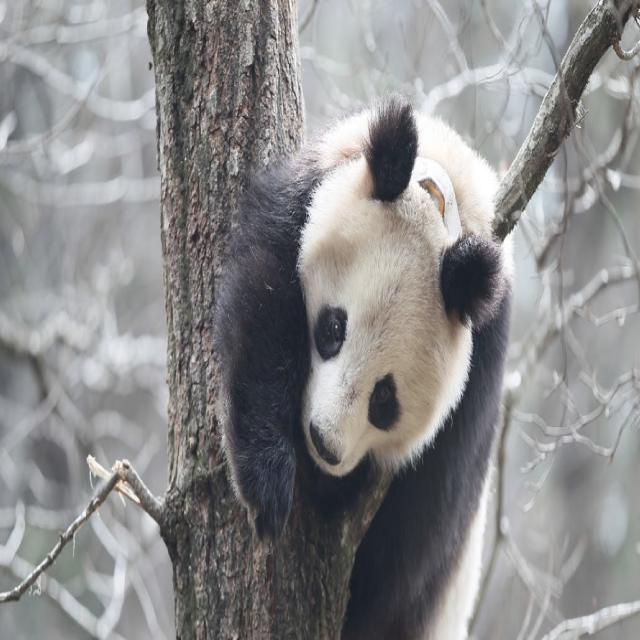panda: (214, 96, 513, 639)
